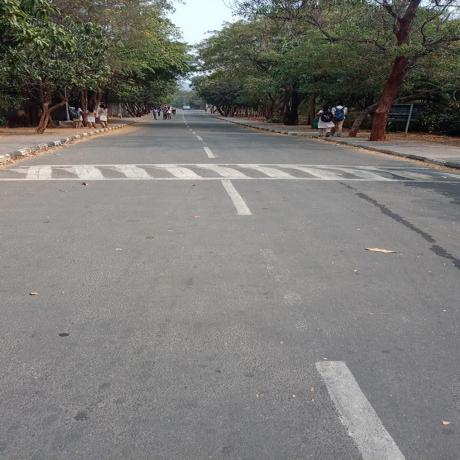Speed Bump: (0, 163, 459, 184)
